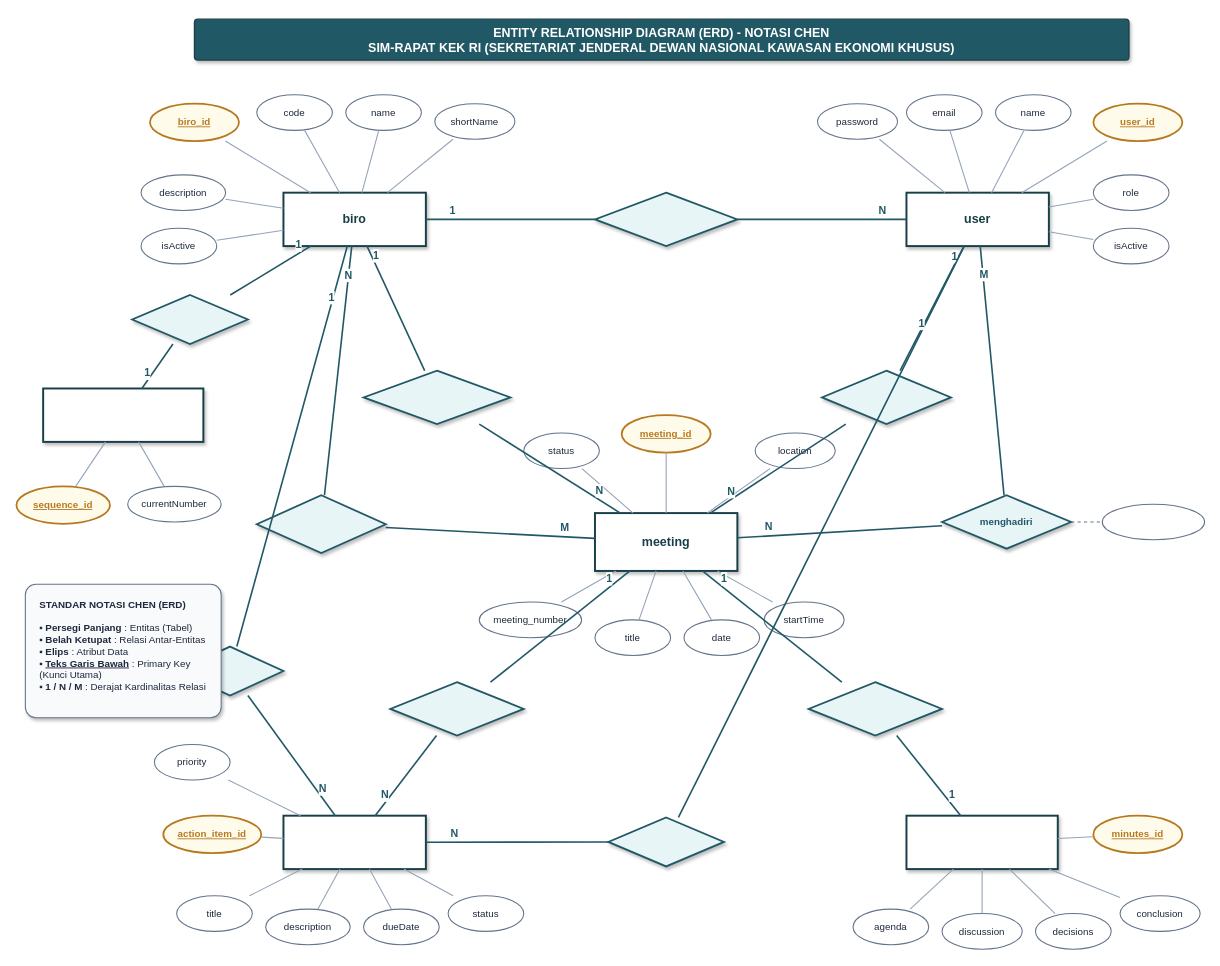
Some shapes in this 1220 by 966 pixel diagram are drawn without their labels. Here are the shapes that lost their labels. From the top down, the centre of each, then its label:
pixel 666 220: memiliki
pixel 190 320: mengatur
pixel 123 416: biro_meeting_sequence
pixel 437 398: menyelenggarakan
pixel 887 398: memimpin & notulis
pixel 322 525: melibatkan (lintas biro)
pixel 1153 521: attendanceStatus
pixel 230 672: pic_biro
pixel 457 709: menetapkan
pixel 876 709: menghasilkan
pixel 355 843: action_item
pixel 666 843: pic_user
pixel 982 843: meeting_minutes
